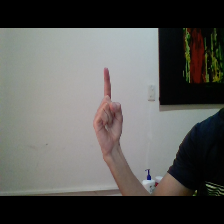2T: (84, 58, 139, 158)
